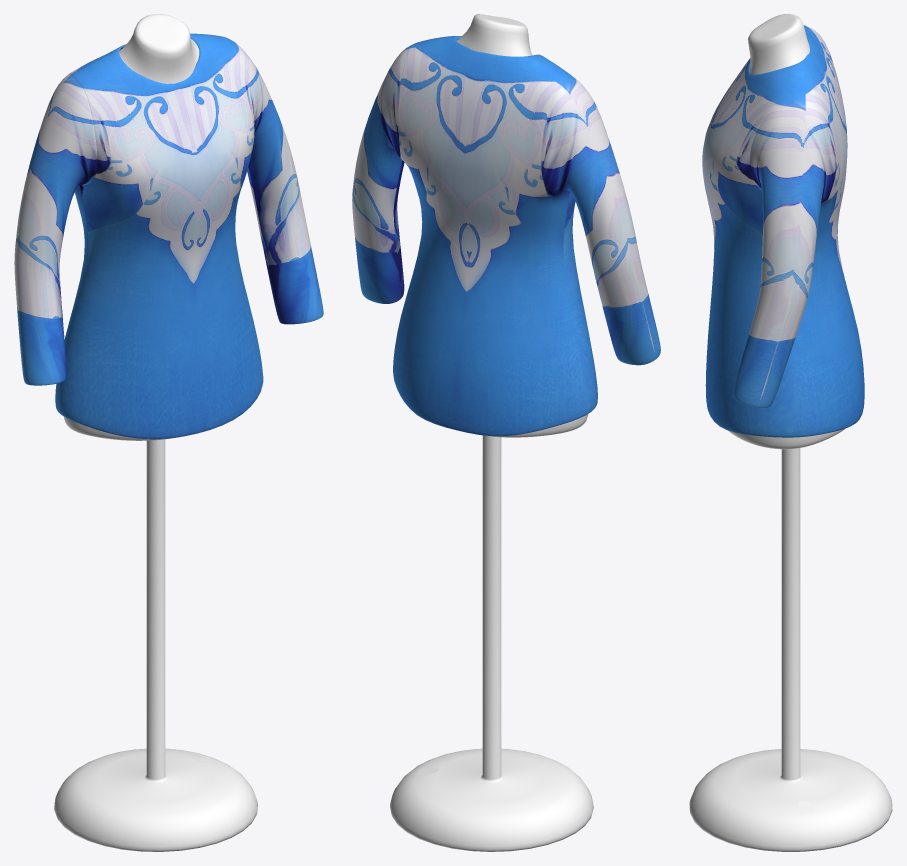
File: women_blouse_shirt.glb
3 renders of one model, left to right at view 1: azimuth 30°, elevation 25°; view 2: azimuth 150°, elevation 25°; view 3: azimuth 270°, elevation 25°, orthographic.
Parts seen in each view (by area): view 1: polySurface23, polySurface22, polySurface20, polySurface24; view 2: polySurface23, polySurface22, polySurface20; view 3: polySurface23, polySurface22, polySurface20, polySurface24.
Part boxes in pixels (x1,y1,x2,y2): polySurface23: [14, 33, 323, 439]; polySurface22: [54, 439, 257, 851]; polySurface20: [119, 14, 199, 83]; polySurface24: [64, 417, 179, 440]; polySurface23: [352, 36, 660, 436]; polySurface22: [390, 435, 593, 851]; polySurface20: [456, 14, 532, 56]; polySurface23: [702, 25, 864, 437]; polySurface22: [689, 448, 892, 851]; polySurface20: [748, 14, 809, 74]; polySurface24: [727, 428, 845, 449].
Bounding box in the file's own units: 71.03 × 183 × 42.49.
4 materials, 1 textured.
